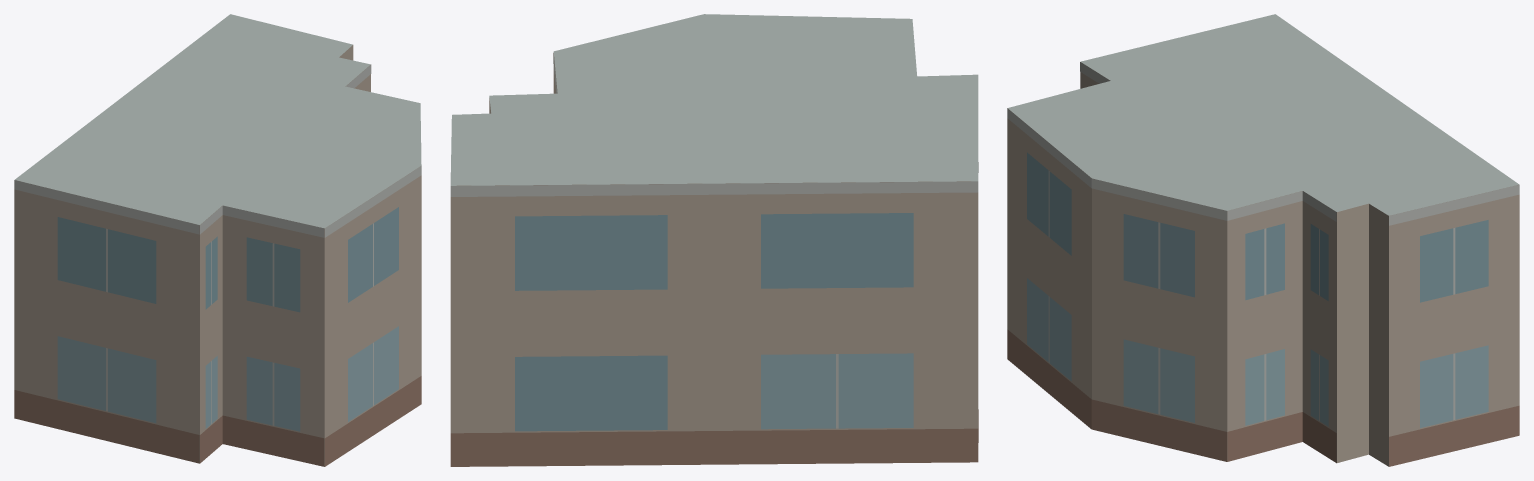
File: survey-upis-32655905.glb
3 views of the same model, side by side, from view 1: azimuth 30°, elevation 25°; view 2: azimuth 150°, elevation 25°; view 3: azimuth 270°, elevation 25° (orthographic). The views are drawn at different scales.
Parts seen in each view (by area): view 1: survey-upis-32655905.tmp; view 2: survey-upis-32655905.tmp; view 3: survey-upis-32655905.tmp.
Part boxes in pixels (<box>): survey-upis-32655905.tmp: <box>14,14,421,466</box>; survey-upis-32655905.tmp: <box>450,14,978,466</box>; survey-upis-32655905.tmp: <box>1007,14,1519,466</box>.
Size of the model in its own units: 10.52 by 6.1 by 11.29.
